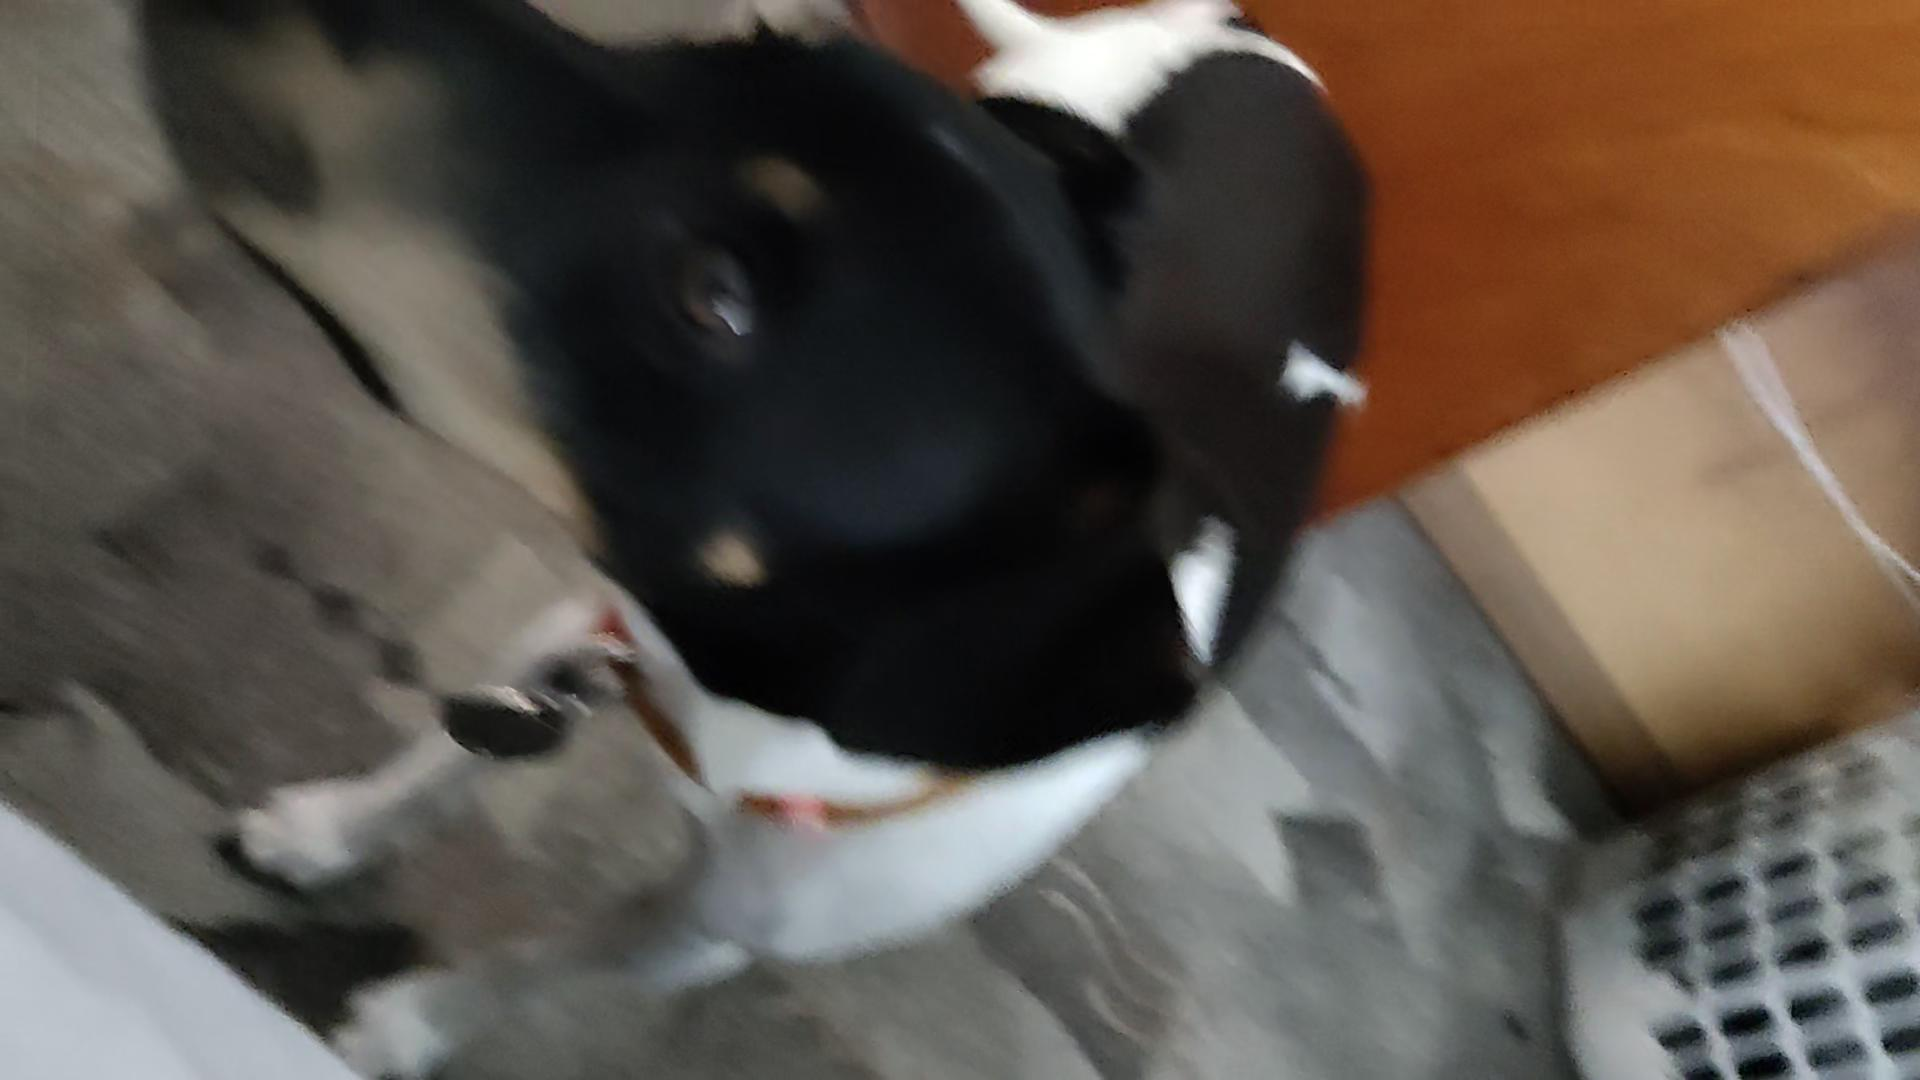Dog: (92, 0, 1422, 1080)
